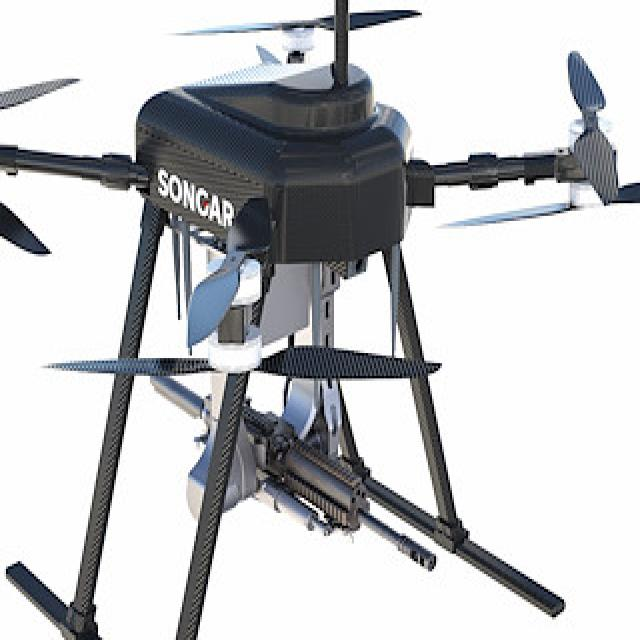drone: (0, 21, 640, 407)
